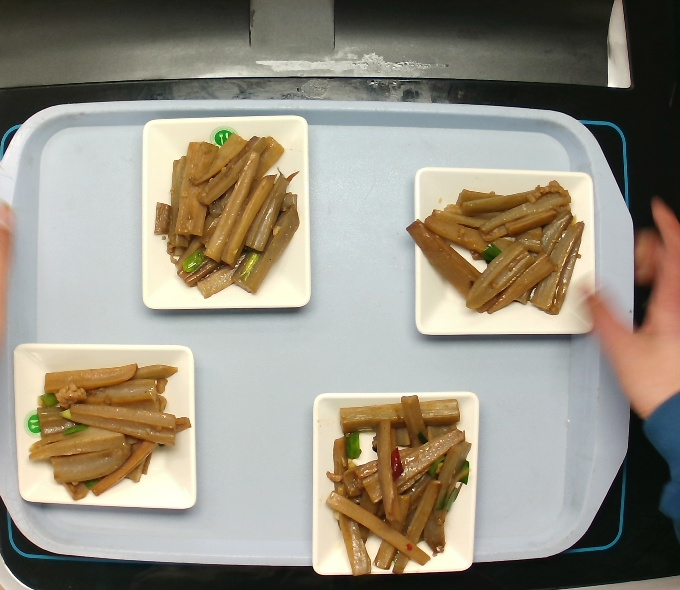wcq-QingChaoOuKuai: (321, 381, 476, 585), (402, 170, 588, 319), (23, 354, 195, 498), (156, 131, 305, 297)
